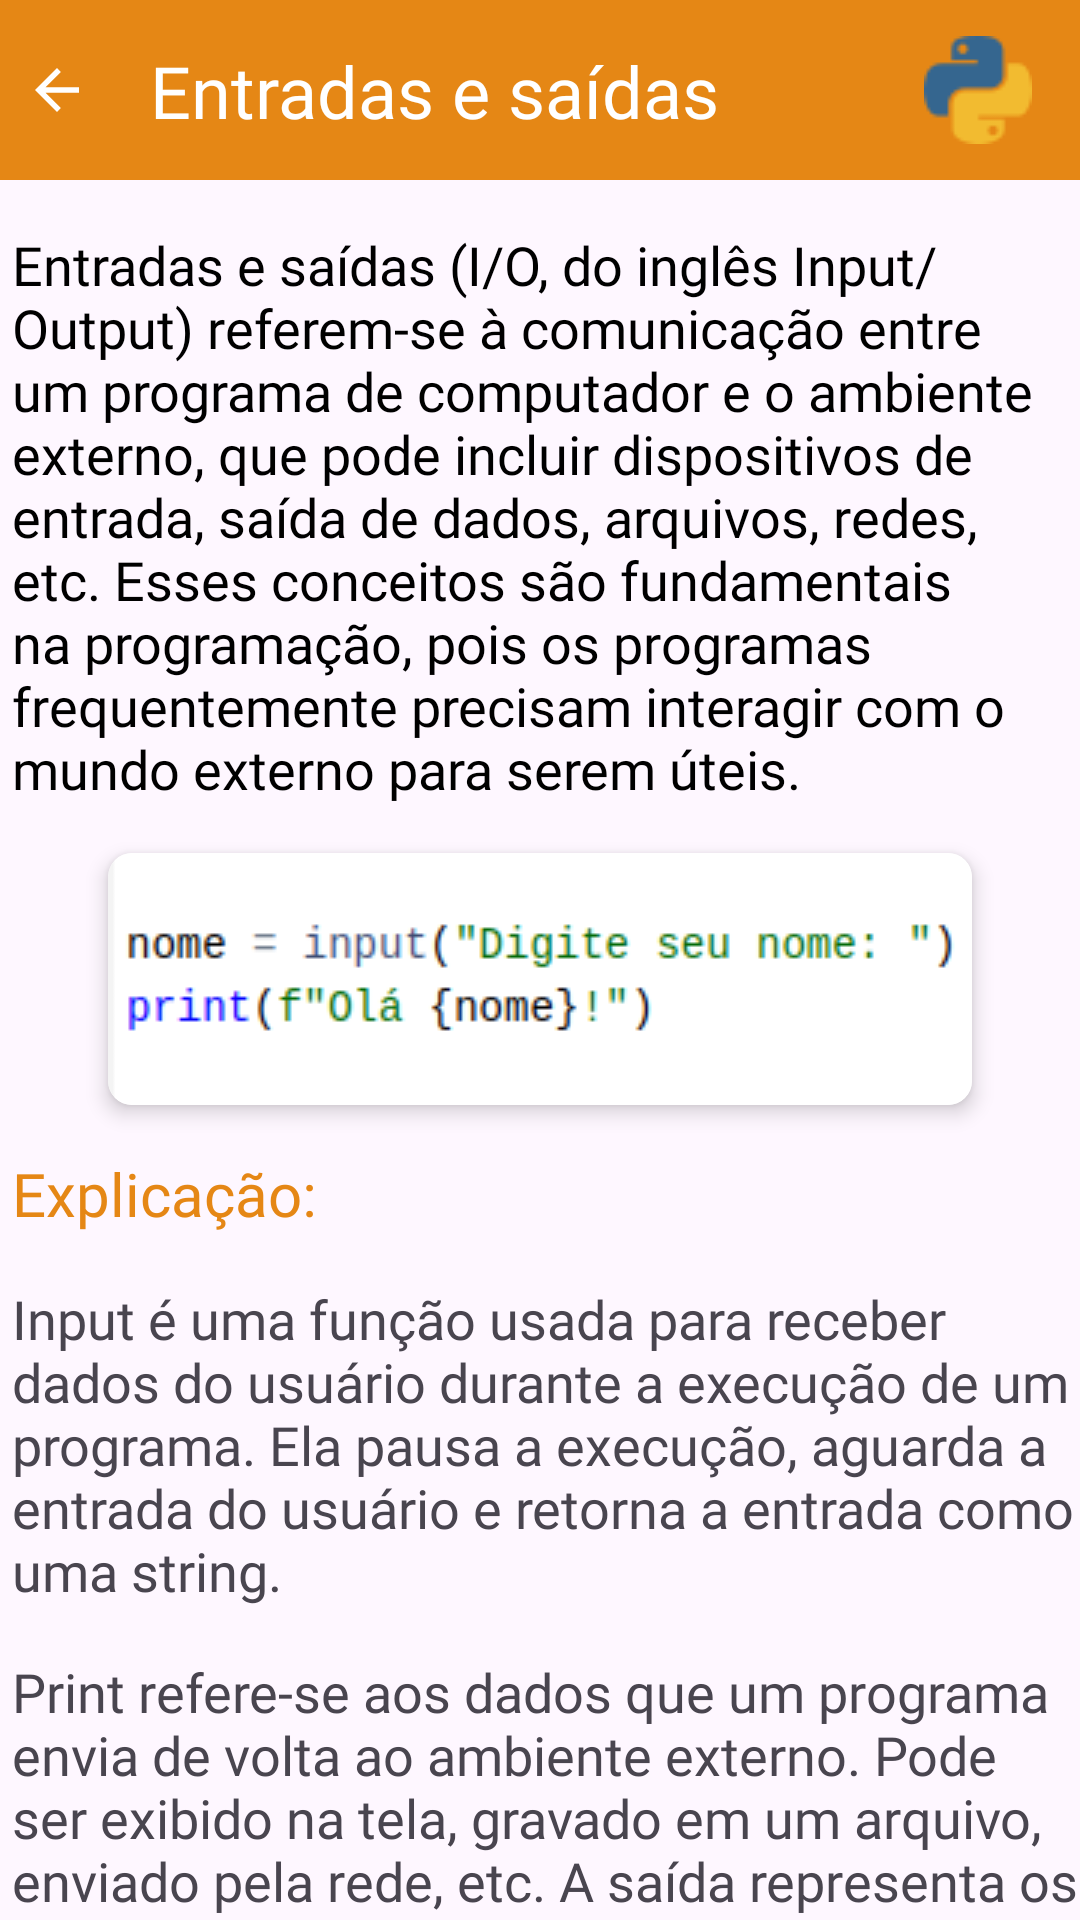

Screen size 1080 × 1920. Icon name, then its box in pixels as bbox=(x1, y1, x2, y2):
arrow back: bbox=(35, 68, 79, 112)
